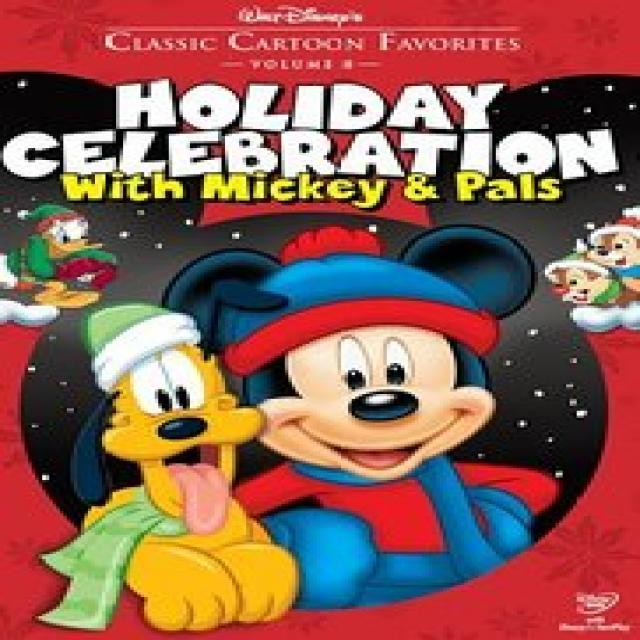movie-judul: (11, 72, 638, 210)
picture: (3, 200, 640, 640)
